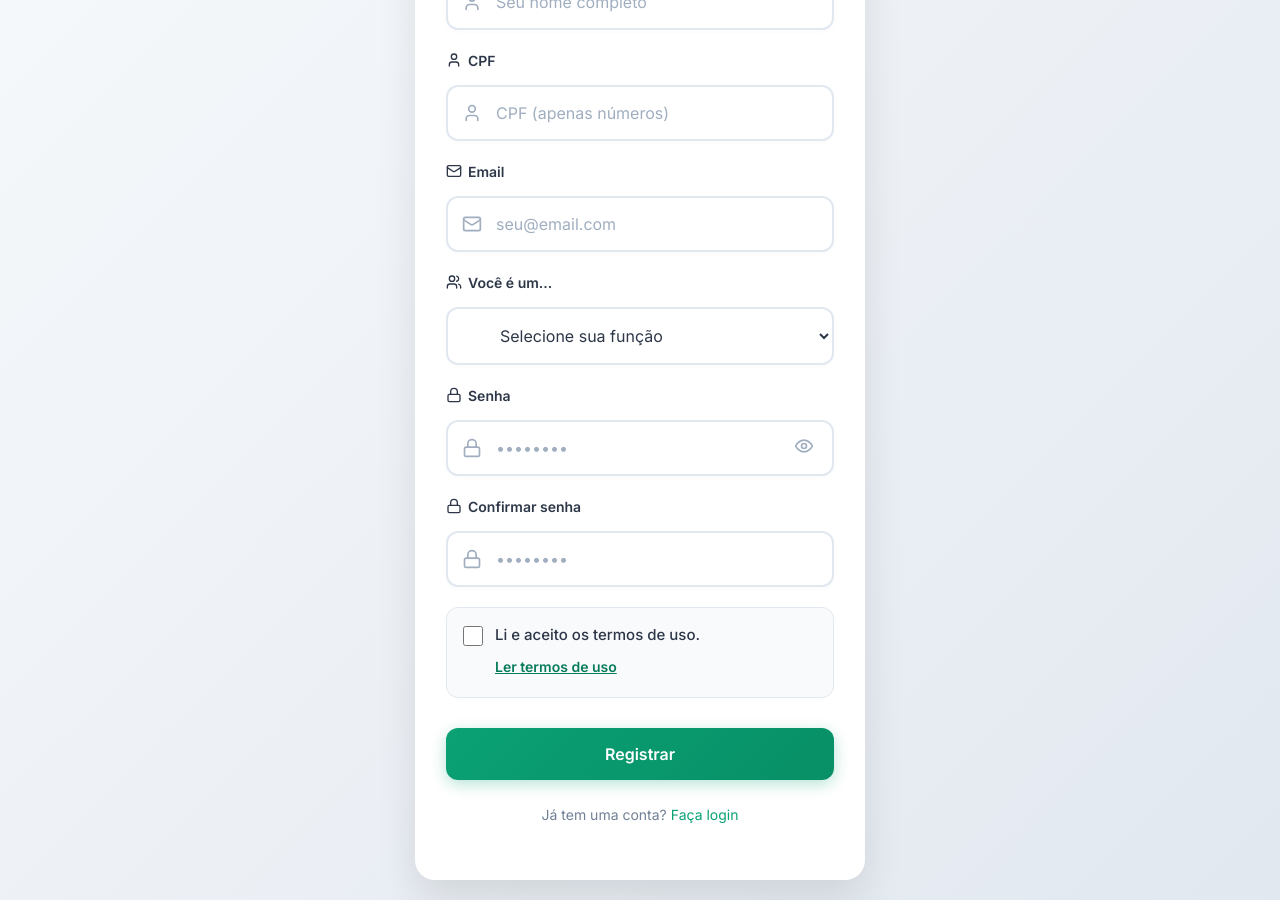
Test: opens and closes the terms without accepting them or submitting the form
This screenshot has width=1280, height=900.
Later steps or results of the test are not shown.
(page scrolled)
Click the button "Ler termos de uso": (556, 667) [495,652,617,682]
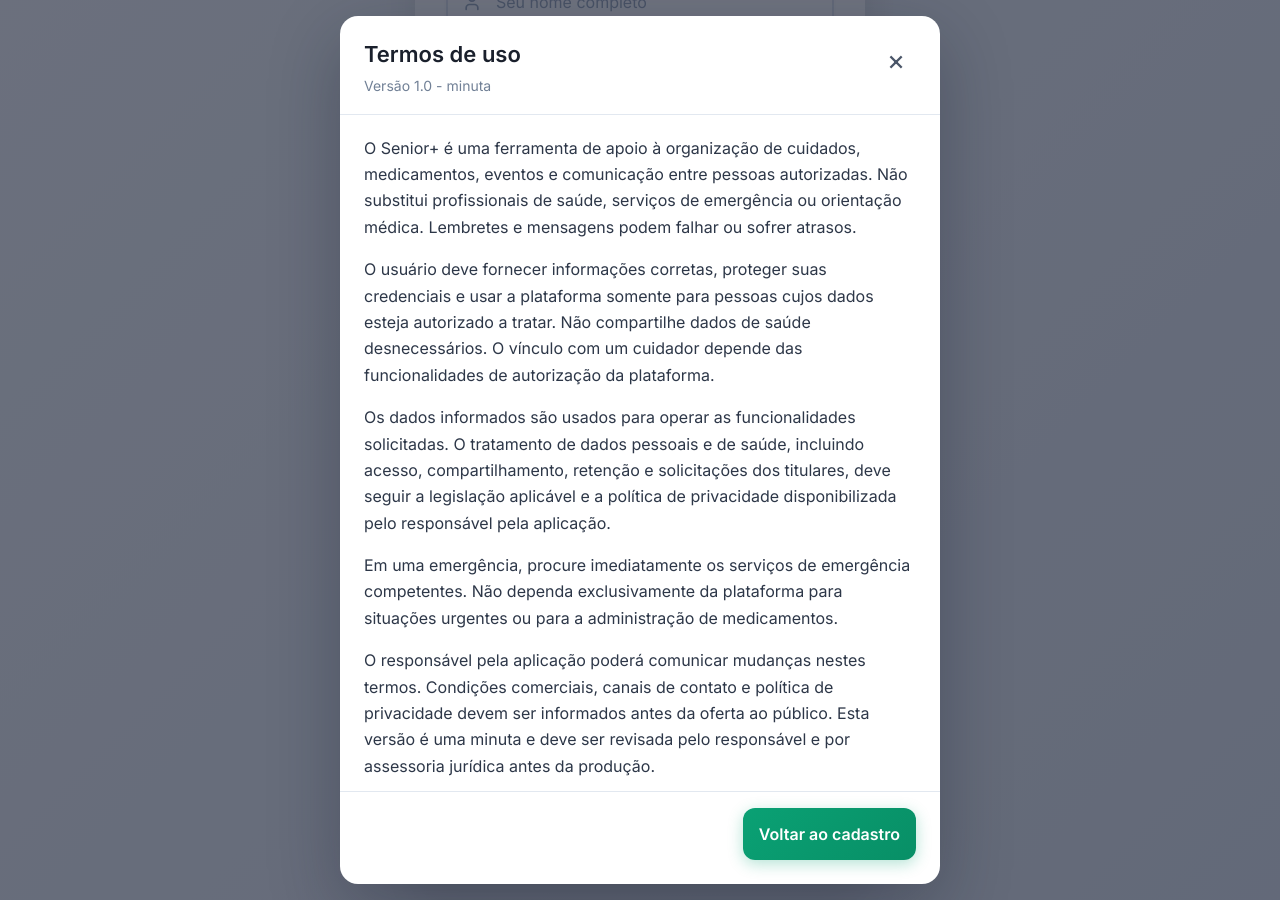
Result: the dialog "Termos de uso" is shown at [340,16,940,884]
Result: the text "não substitui profissionais de saúde" is shown at [364,138,908,237]
